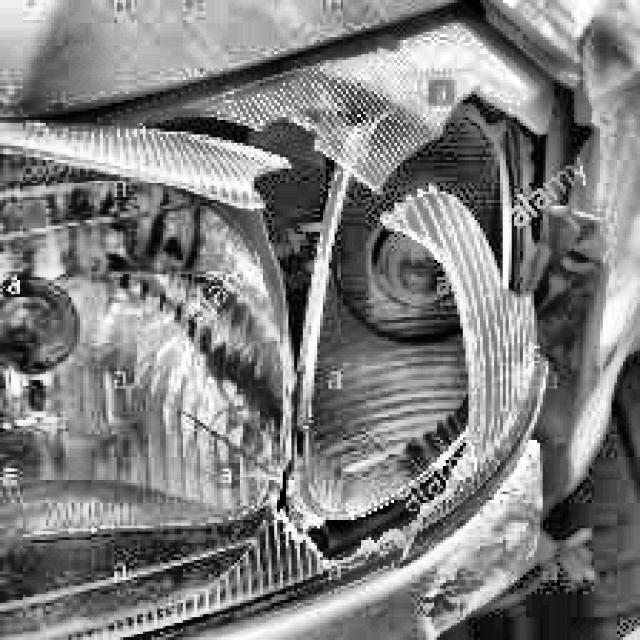head_lamp: (256, 143, 438, 535), (449, 104, 570, 289)
